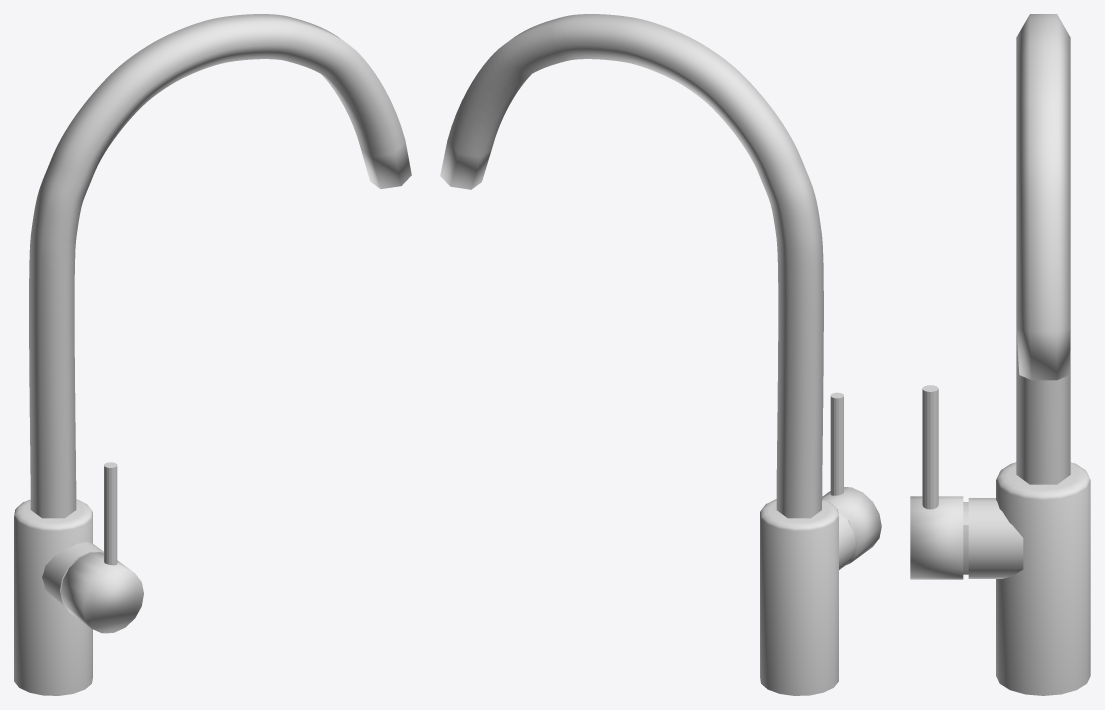
File: faucet.glb
The picture shows the model from 3 angles, left to right: view 1: azimuth 30°, elevation 25°; view 2: azimuth 150°, elevation 25°; view 3: azimuth 270°, elevation 25°; orthographic projection. The views are drawn at different scales.
Visible parts, largest first — view 1: SM_Musluk_0, SM_Musluk_Kulp_1; view 2: SM_Musluk_0, SM_Musluk_Kulp_1; view 3: SM_Musluk_0, SM_Musluk_Kulp_1.
Boxes of the visible parts, x1=… form: SM_Musluk_0: x1=14, y1=14, x2=411, y2=695; SM_Musluk_Kulp_1: x1=61, y1=462, x2=143, y2=633; SM_Musluk_0: x1=440, y1=14, x2=855, y2=695; SM_Musluk_Kulp_1: x1=822, y1=392, x2=881, y2=564; SM_Musluk_0: x1=963, y1=14, x2=1090, y2=695; SM_Musluk_Kulp_1: x1=910, y1=385, x2=963, y2=579.
Size of the model in its own units: 0.6911 by 1.05 by 0.2342.
Materials: 1 (1 with a texture image).
